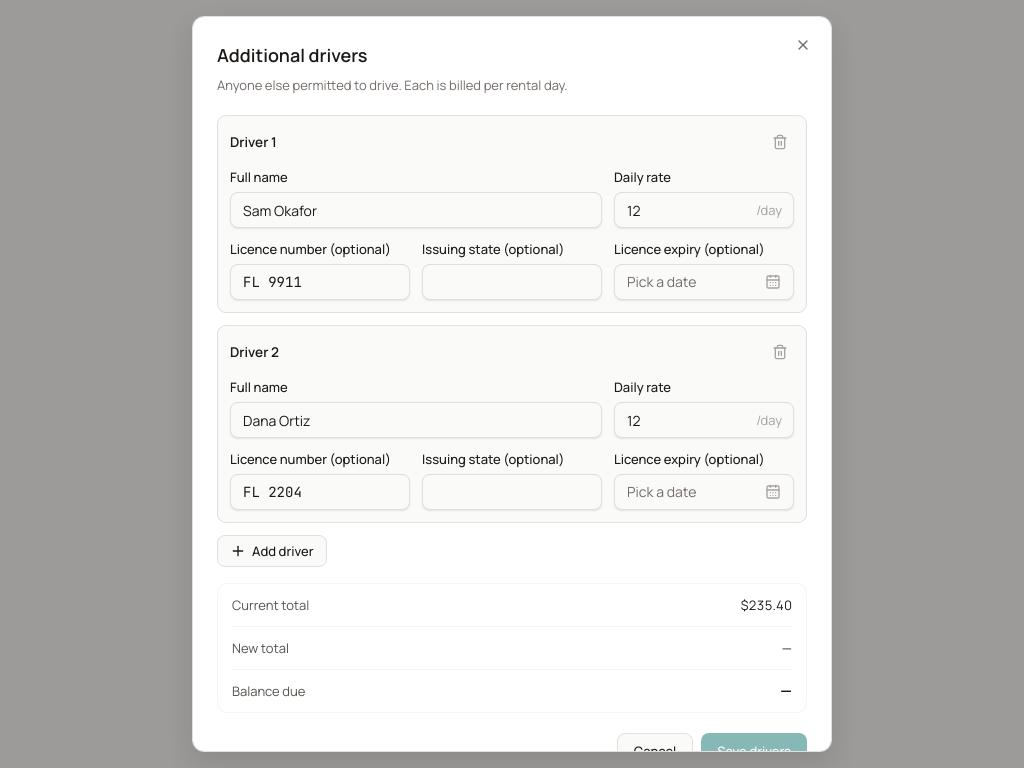
Scenario: BookingDriversDialog › lists the drivers the booking has, and takes one off
Expected: the field named "Driver 1 full name" holds "Sam Okafor", [230, 192, 602, 228]
Expected: the field named "Driver 2 full name" holds "Dana Ortiz", [230, 402, 602, 438]
Click the button named "Remove driver 1": click(780, 142) [766, 128, 794, 156]
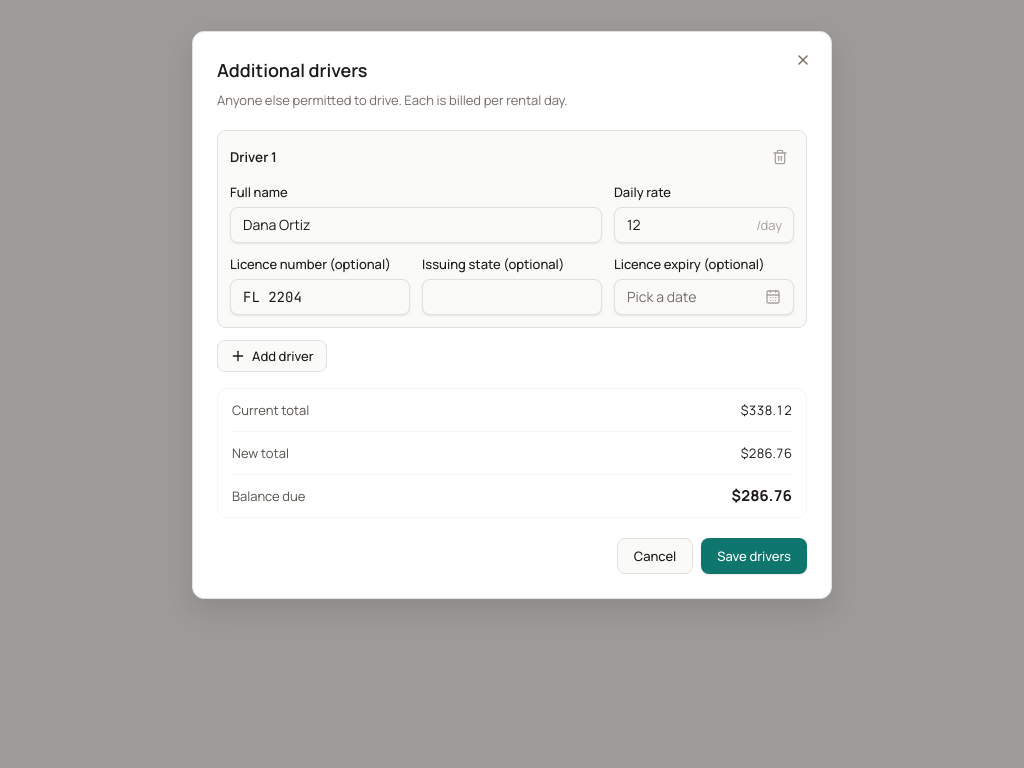
Now the button "Save drivers" is enabled, box [701, 538, 807, 574]
